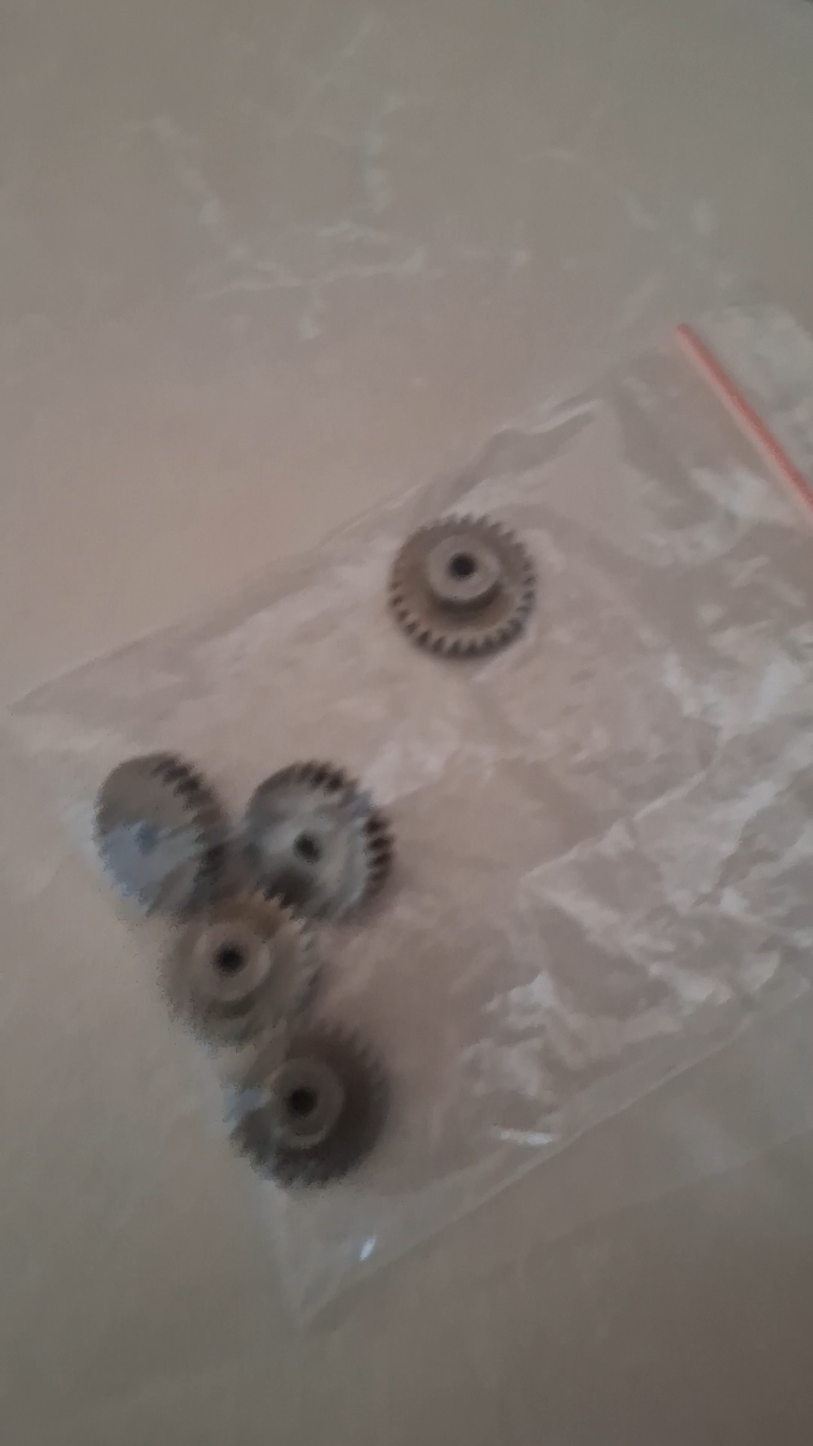spur gear: (231, 1025, 388, 1186), (162, 894, 318, 1046), (243, 761, 391, 918), (94, 753, 226, 914), (389, 516, 535, 657)
